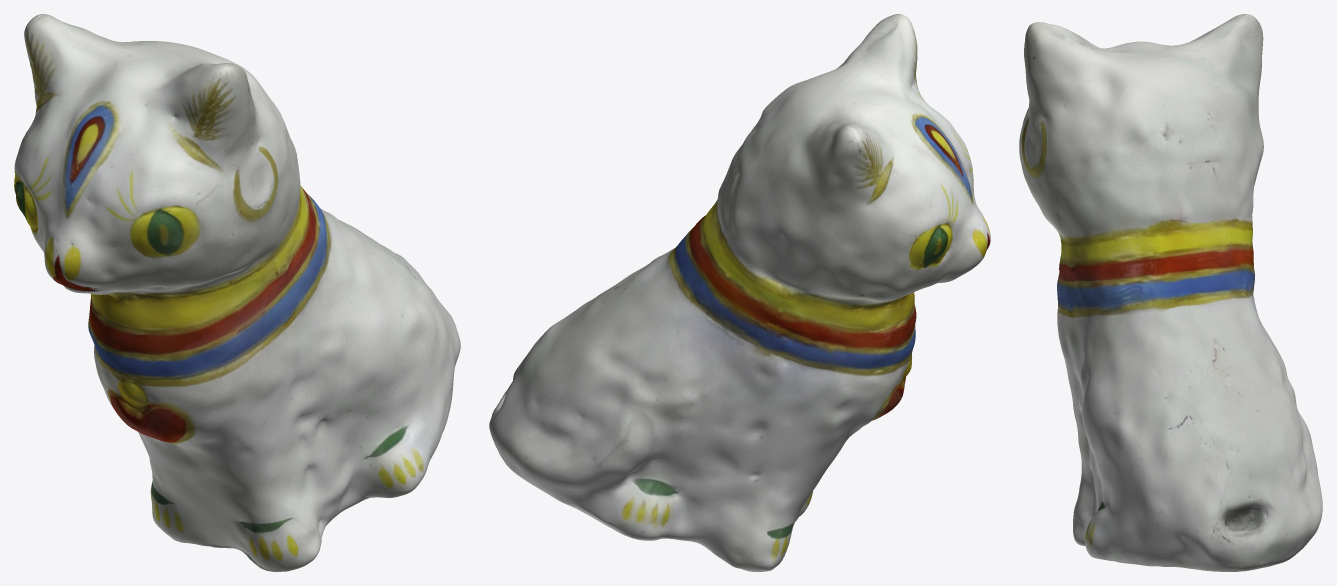
3 views of the same model, side by side, from view 1: azimuth 30°, elevation 25°; view 2: azimuth 150°, elevation 25°; view 3: azimuth 270°, elevation 25° (orthographic). The views are drawn at different scales.
Bounding box in the file's own units: 0.6074 × 0.6876 × 0.3868.
Materials: 1 (1 with a texture image).
